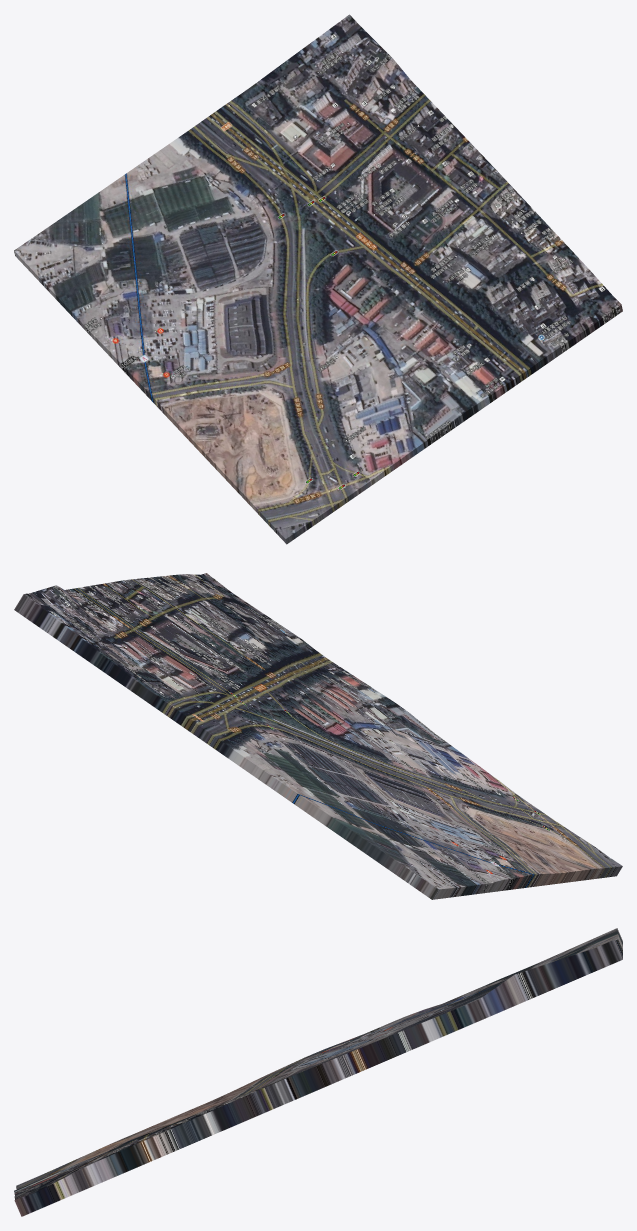
The picture shows the model from 3 angles, top to bottom: view 1: azimuth 30°, elevation 25°; view 2: azimuth 150°, elevation 25°; view 3: azimuth 270°, elevation 25°; orthographic projection. The views are drawn at different scales.
Visible parts, largest first — view 1: 0_1_10; view 2: 0_1_10; view 3: 0_1_10.
Part boxes in pixels (bbox=[...]): 0_1_10: bbox=[14, 14, 622, 544]; 0_1_10: bbox=[14, 573, 622, 899]; 0_1_10: bbox=[14, 928, 622, 1216].
Bounding box in the file's own units: 597 × 445 × 549.
Materials: 1 (1 with a texture image).
